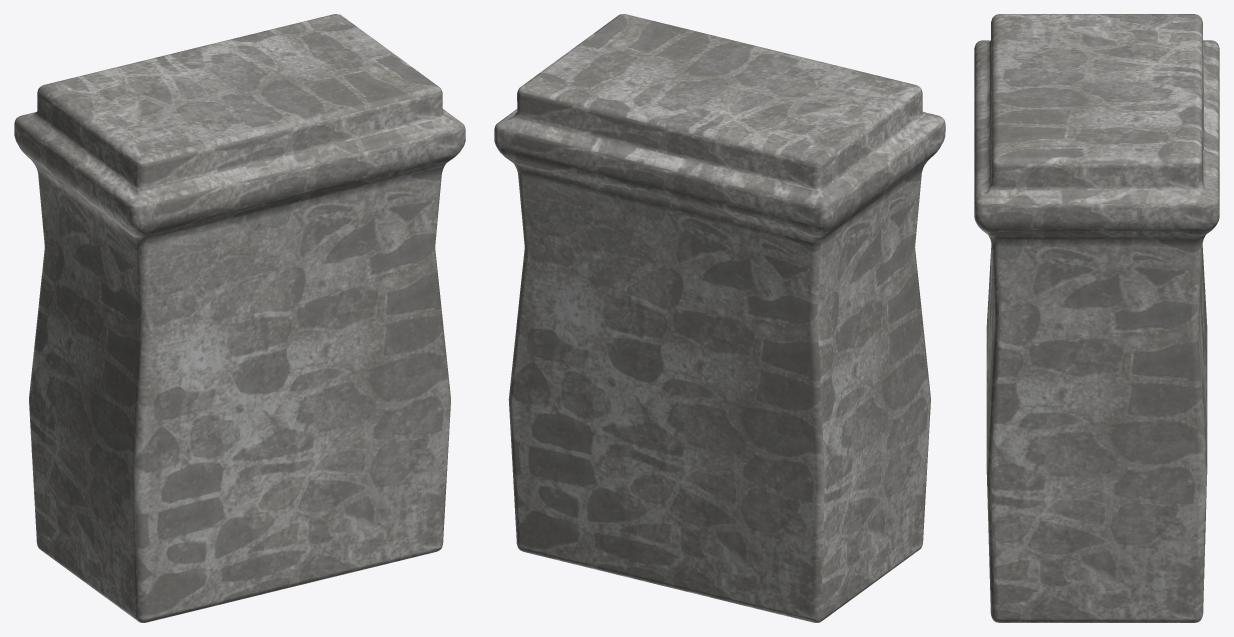
Rendered from SM_ChimneyBase.fbx.
The picture shows the model from 3 angles, left to right: view 1: azimuth 30°, elevation 25°; view 2: azimuth 150°, elevation 25°; view 3: azimuth 270°, elevation 25°; orthographic projection.
Visible parts, largest first — view 1: SM_ChimneyBase_LOD0; view 2: SM_ChimneyBase_LOD0; view 3: SM_ChimneyBase_LOD0.
Boxes of the visible parts, <box> form: SM_ChimneyBase_LOD0: <box>14,14,465,622</box>; SM_ChimneyBase_LOD0: <box>494,14,945,622</box>; SM_ChimneyBase_LOD0: <box>974,14,1219,622</box>.
Size of the model in its own units: 109 by 69.47 by 145.
Materials: 1 (1 with a texture image).
